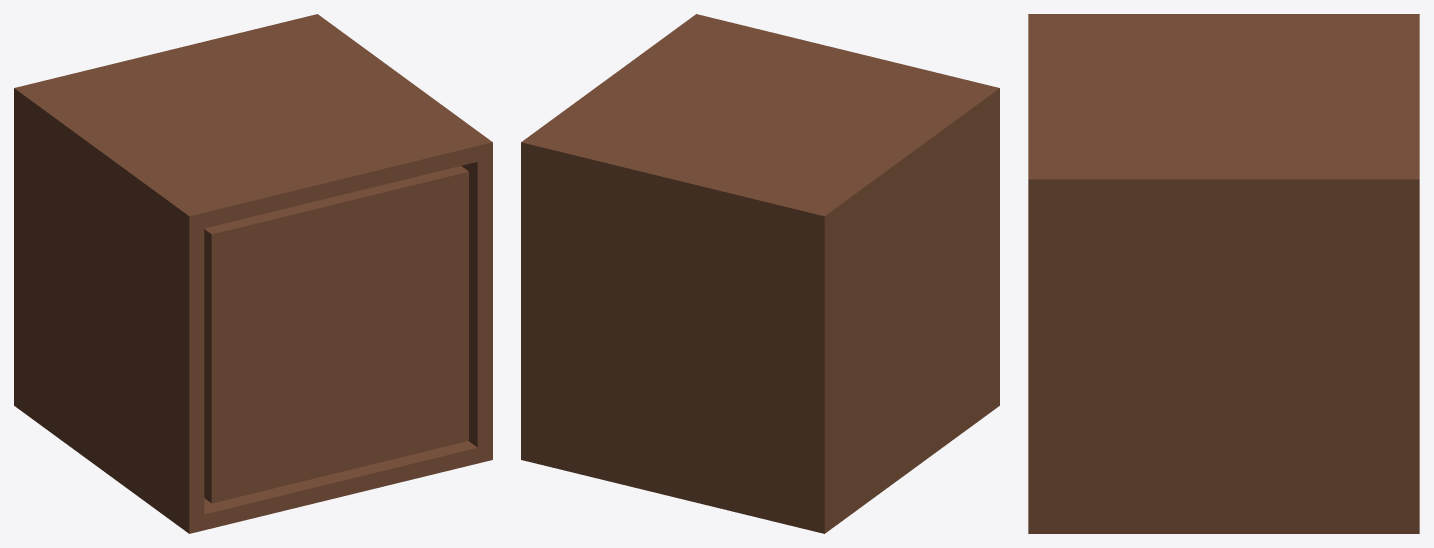
Rendered from Cabinet_Small.fbx.
The picture shows the model from 3 angles, left to right: view 1: azimuth 30°, elevation 25°; view 2: azimuth 150°, elevation 25°; view 3: azimuth 270°, elevation 25°; orthographic projection. The views are drawn at different scales.
Parts seen in each view (by area): view 1: CABINET SMALL; view 2: CABINET SMALL; view 3: CABINET SMALL.
Part boxes in pixels (x1=…): CABINET SMALL: x1=14, y1=14, x2=492, y2=533; CABINET SMALL: x1=521, y1=14, x2=999, y2=533; CABINET SMALL: x1=1028, y1=14, x2=1419, y2=533.
Size of the model in its own units: 50 by 50 by 50.
